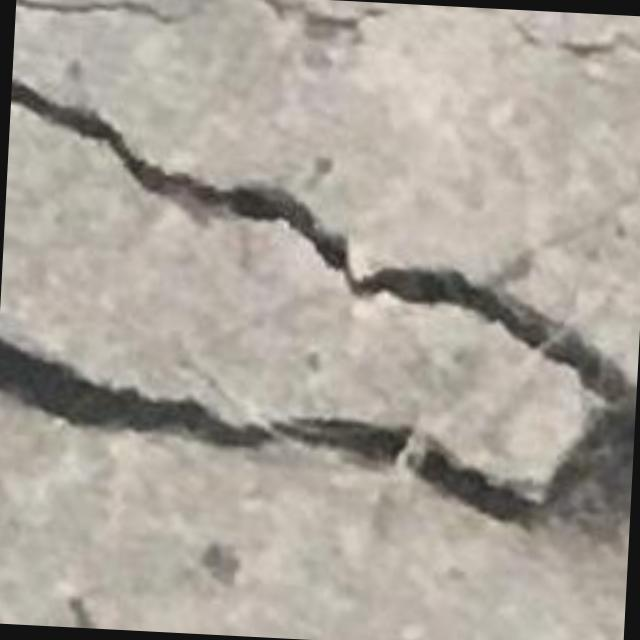crack: (0, 78, 636, 582)
